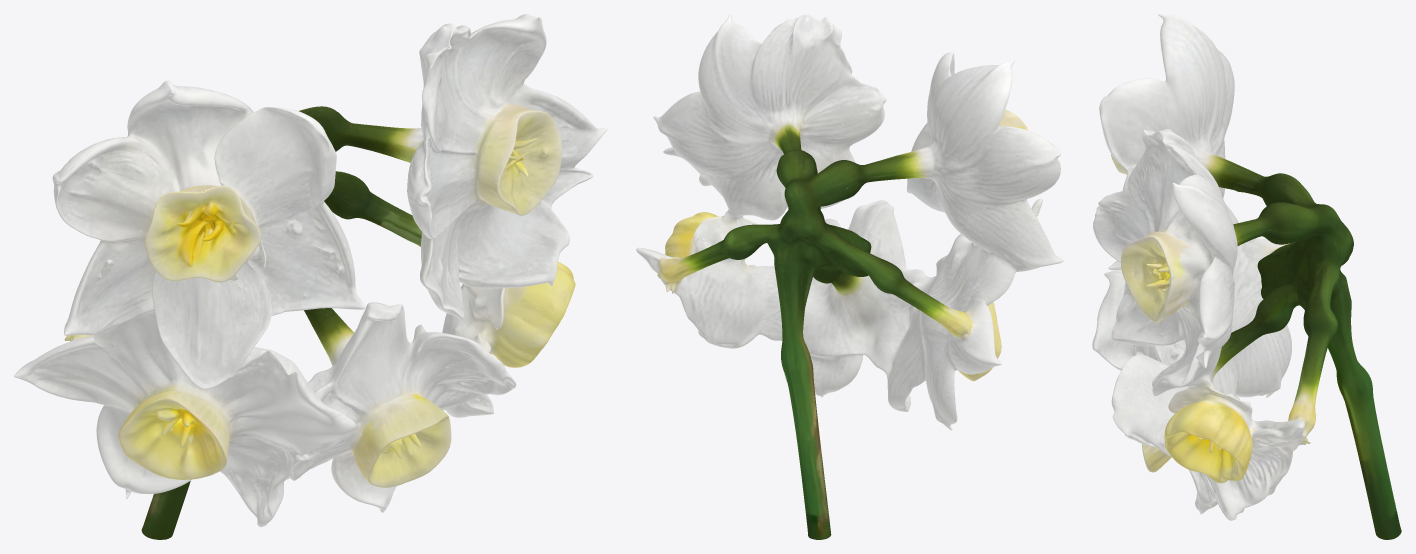
File: SET3.glb
3 renders of one model, left to right at view 1: azimuth 30°, elevation 25°; view 2: azimuth 150°, elevation 25°; view 3: azimuth 270°, elevation 25°, orthographic. The views are drawn at different scales.
Bounding box in the file's own units: 1.9 × 1.9 × 1.13.
1 material, 1 textured.
